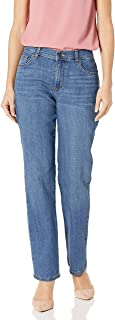jeans: (13, 44, 102, 281)
